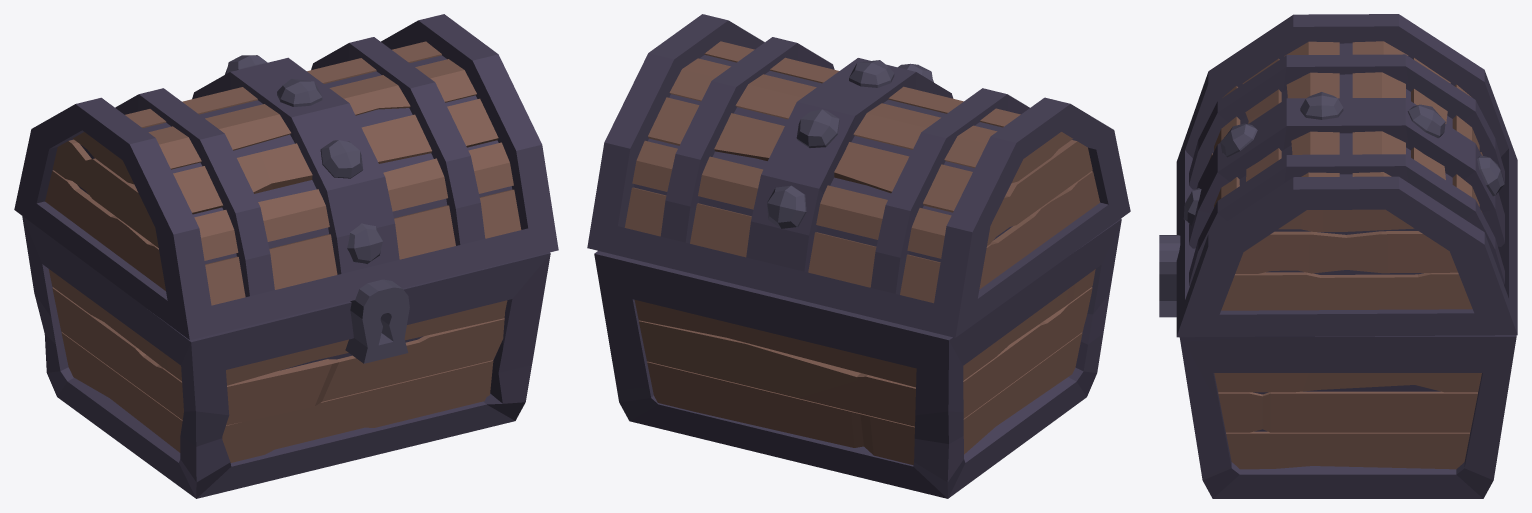
File: Chest.fbx
The picture shows the model from 3 angles, left to right: view 1: azimuth 30°, elevation 25°; view 2: azimuth 150°, elevation 25°; view 3: azimuth 270°, elevation 25°; orthographic projection. The views are drawn at different scales.
Parts seen in each view (by area): view 1: ChestTop, Chest; view 2: ChestTop, Chest; view 3: ChestTop, Chest.
Part boxes in pixels (x1,y1,x2,y2): ChestTop: [14, 14, 558, 340]; Chest: [22, 216, 550, 498]; ChestTop: [587, 14, 1130, 337]; Chest: [594, 219, 1121, 498]; ChestTop: [1176, 14, 1517, 337]; Chest: [1159, 235, 1516, 498].
Size of the model in its own units: 94.96 by 82.96 by 82.24.
